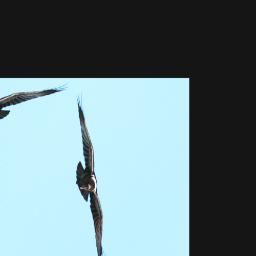Crow: (7, 89, 180, 256)
